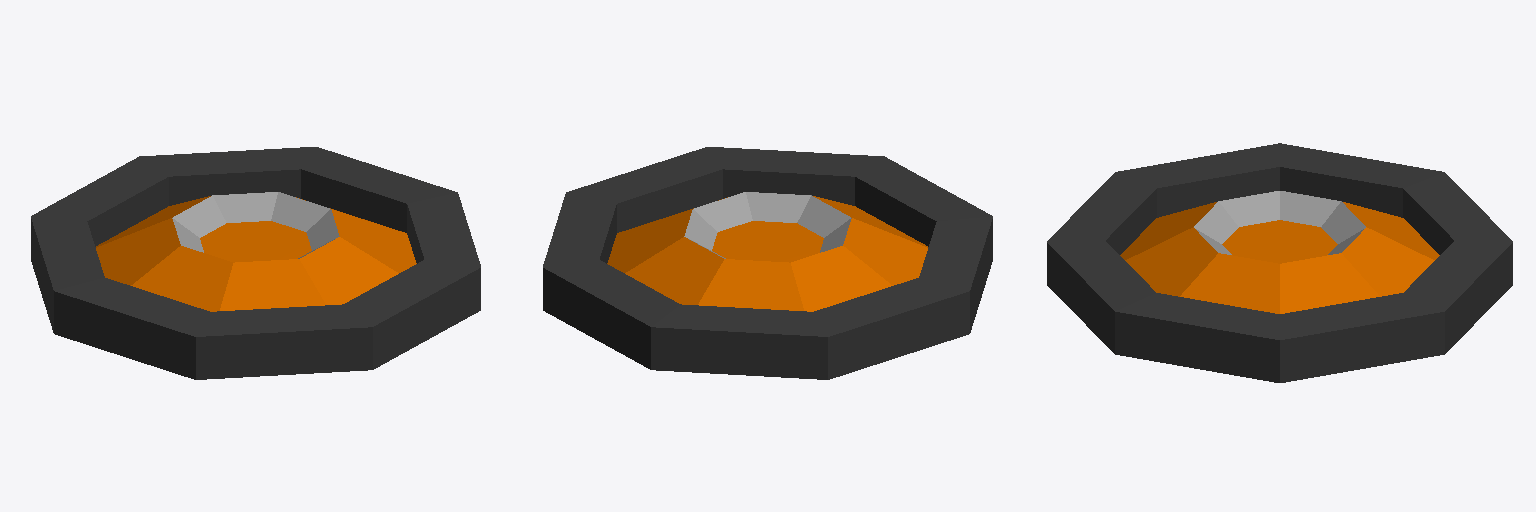
The model's file is Laser Source.obj.
3 views of the same model, side by side, from view 1: azimuth 30°, elevation 25°; view 2: azimuth 150°, elevation 25°; view 3: azimuth 270°, elevation 25° (orthographic).
Visible parts, largest first — view 1: Laser Source; view 2: Laser Source; view 3: Laser Source.
Boxes of the visible parts, x1=… form: Laser Source: x1=31, y1=147, x2=480, y2=379; Laser Source: x1=543, y1=147, x2=992, y2=379; Laser Source: x1=1047, y1=143, x2=1512, y2=382.
Size of the model in its own units: 2.28 by 0.3114 by 2.28.